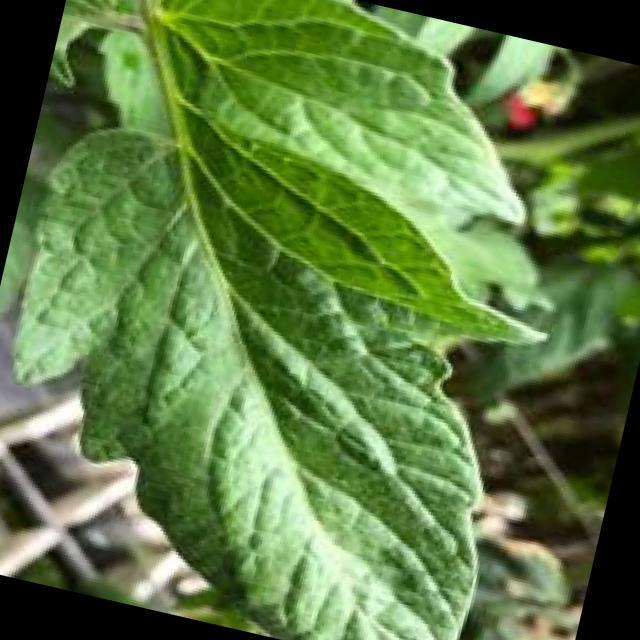Tomato healthy leaf: (9, 0, 544, 640)
